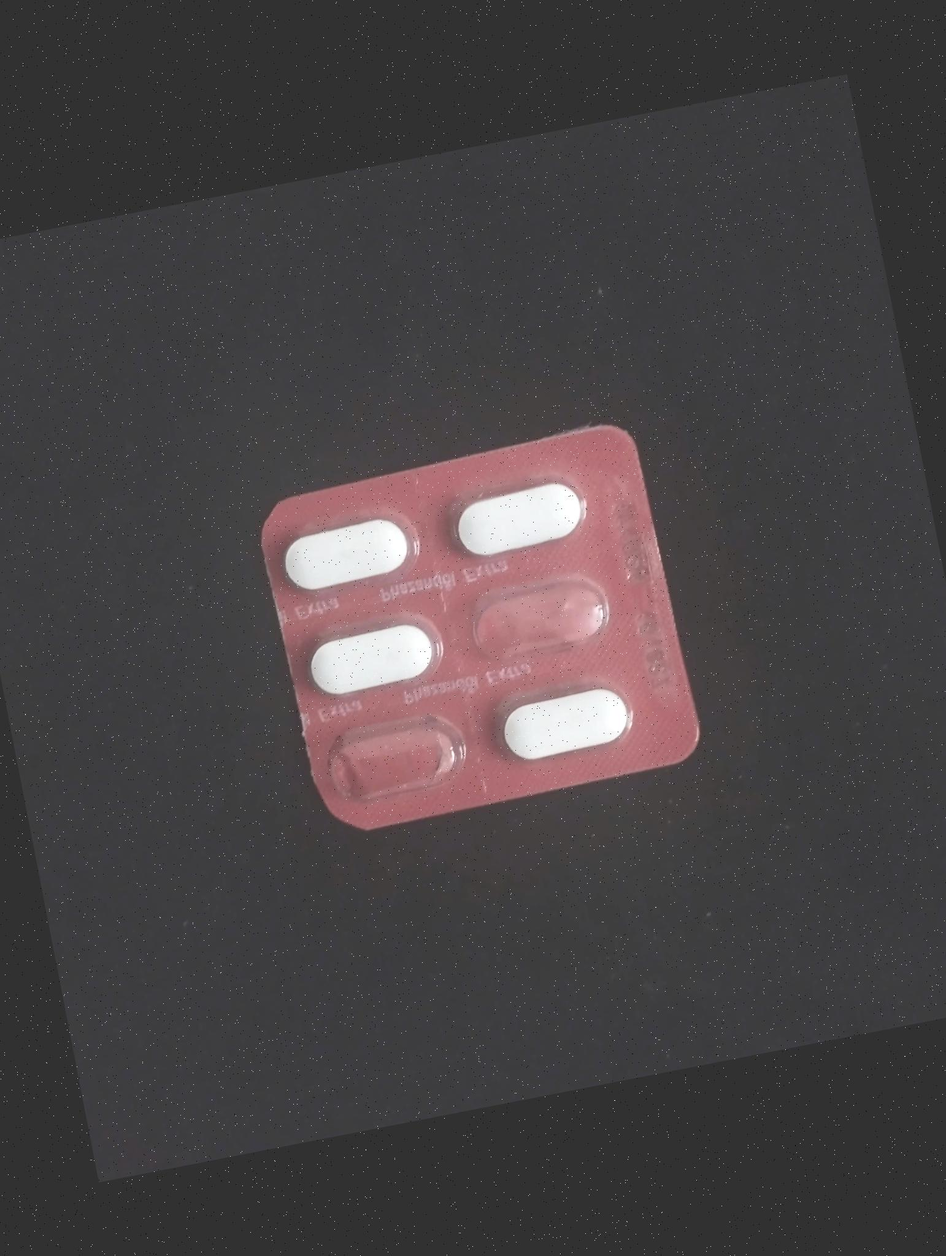Empty: (456, 565, 615, 670), (317, 714, 469, 815)
Full: (488, 672, 653, 775), (272, 504, 420, 602), (445, 469, 588, 563), (304, 614, 448, 706)
